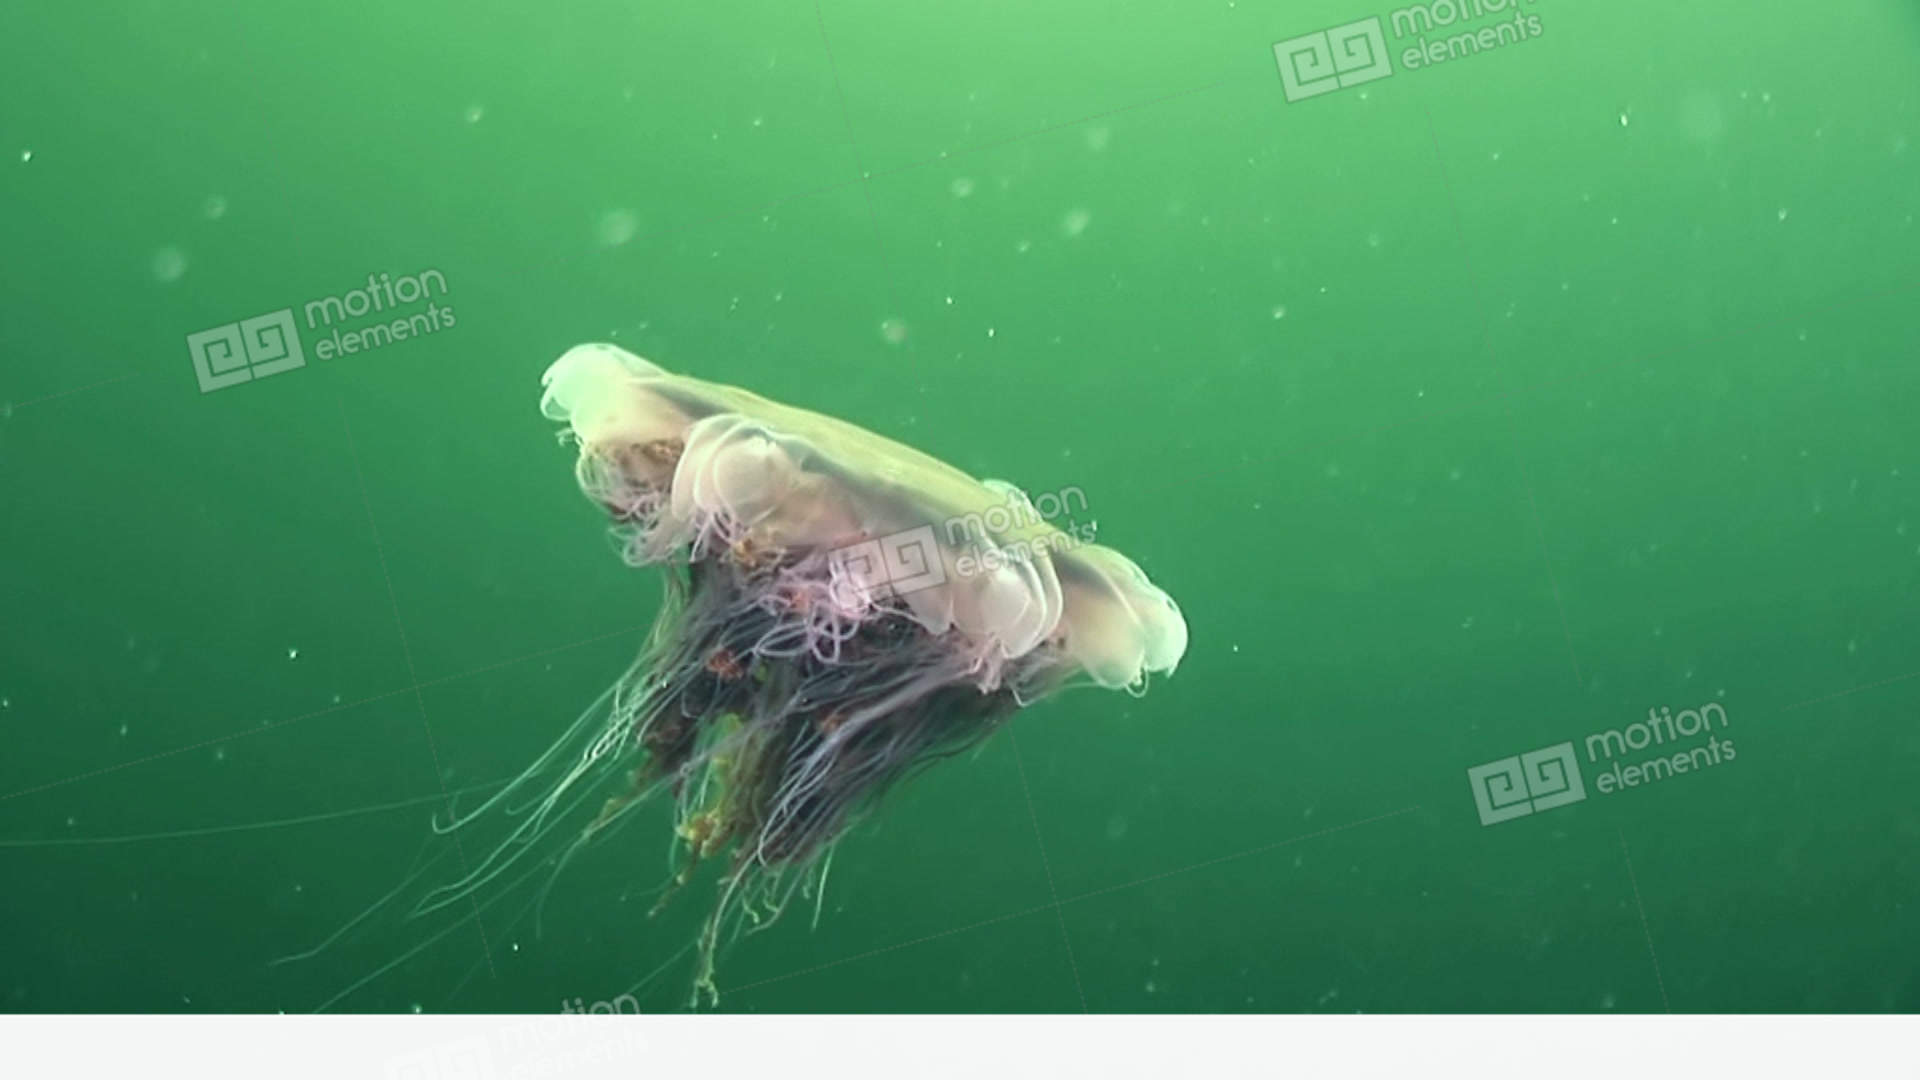jellyfish: (444, 335, 1193, 978)
